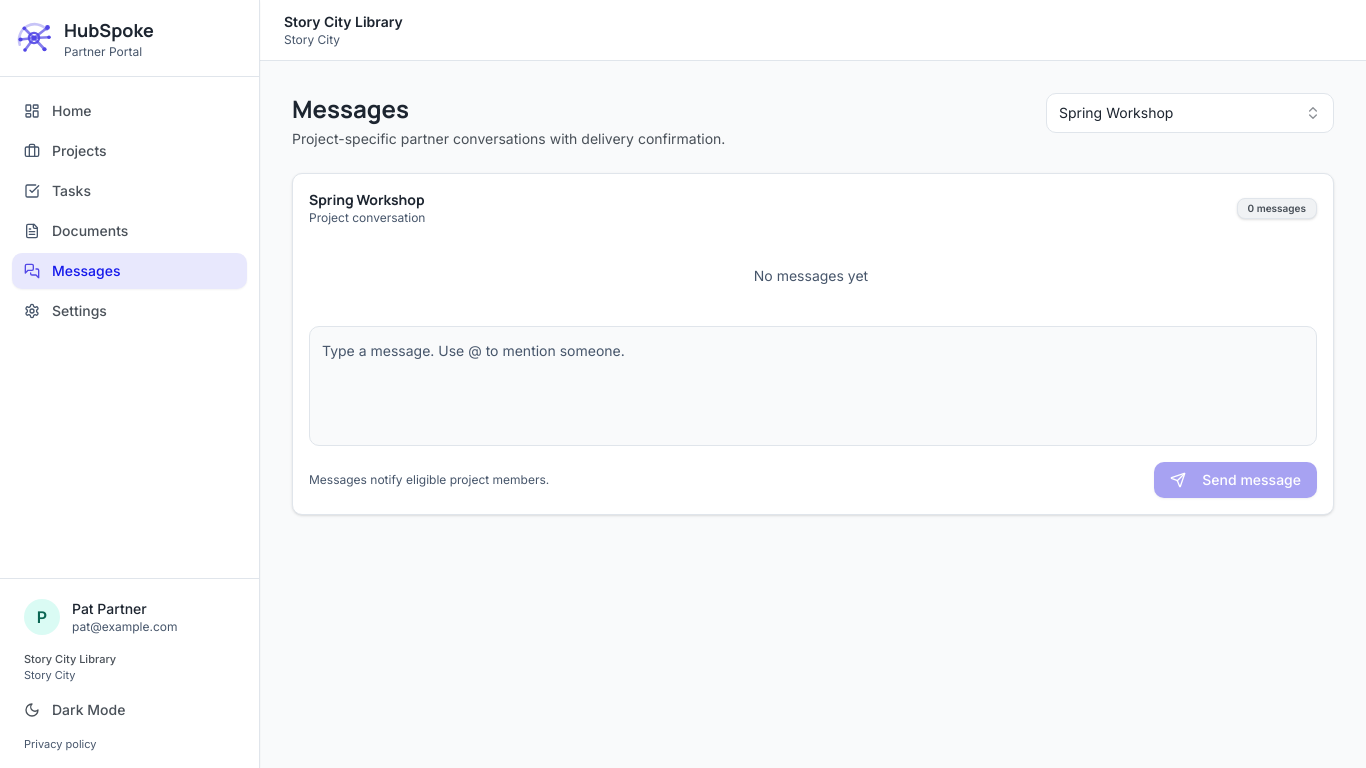
Test: PortalDashboard route pages › shows fallback delivery summary when API omits notification_summary
This screenshot has width=1366, height=768.
Type "hello @pat" into the text box labelled "message". click: [813, 383]
box: [322, 335, 1304, 431]
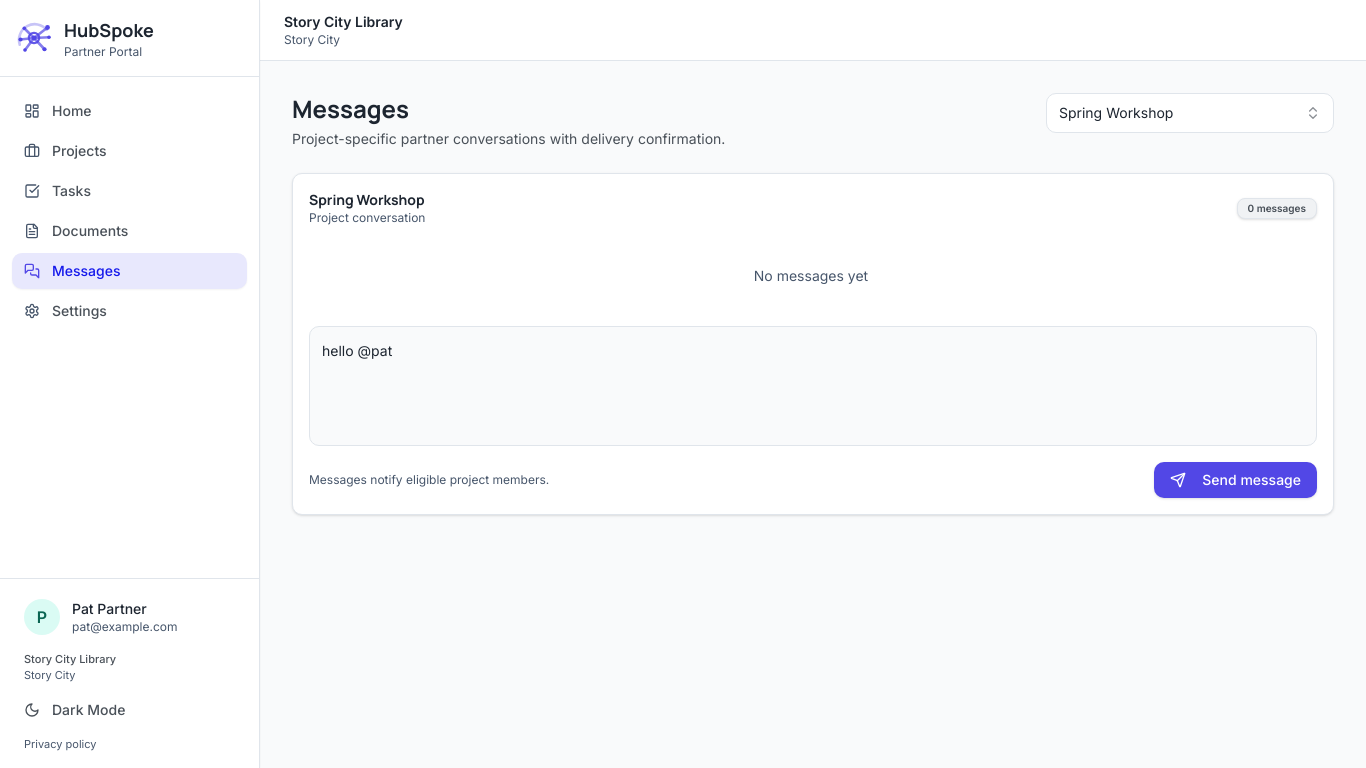
Click the button "Send message". click: [1236, 480]
box: [1154, 462, 1317, 498]
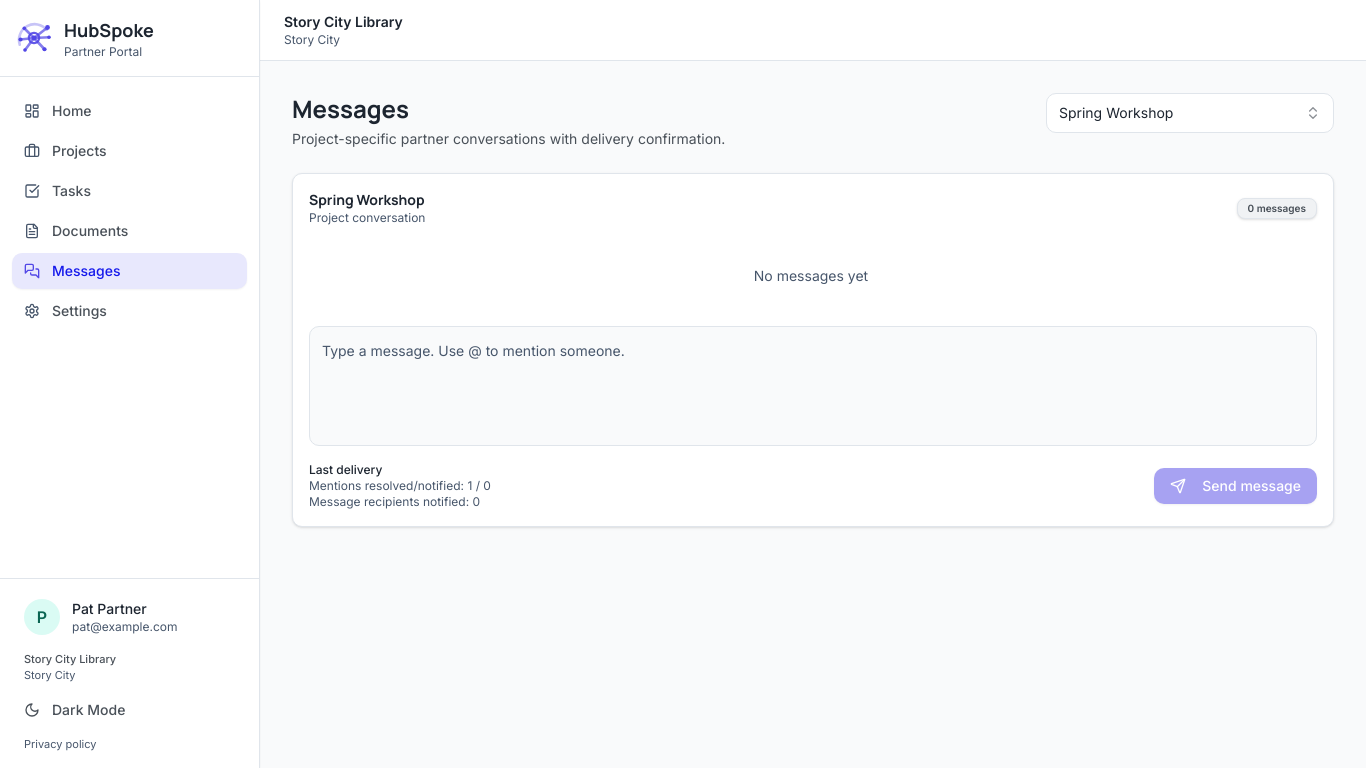
Result: the text "Last delivery" is shown at [309, 462, 382, 477]
Result: the text "Mentions resolved/notified: 1 / 0" is shown at [309, 478, 491, 494]
